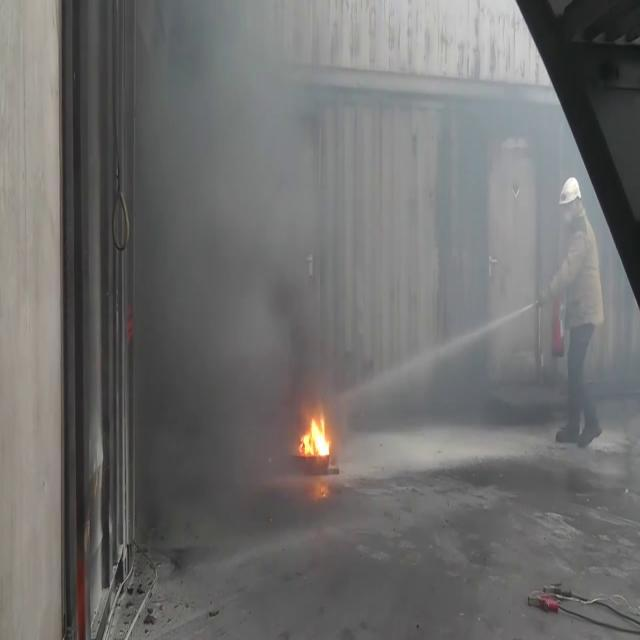Fire: (298, 402, 334, 467)
Smoke: (134, 2, 338, 450)
